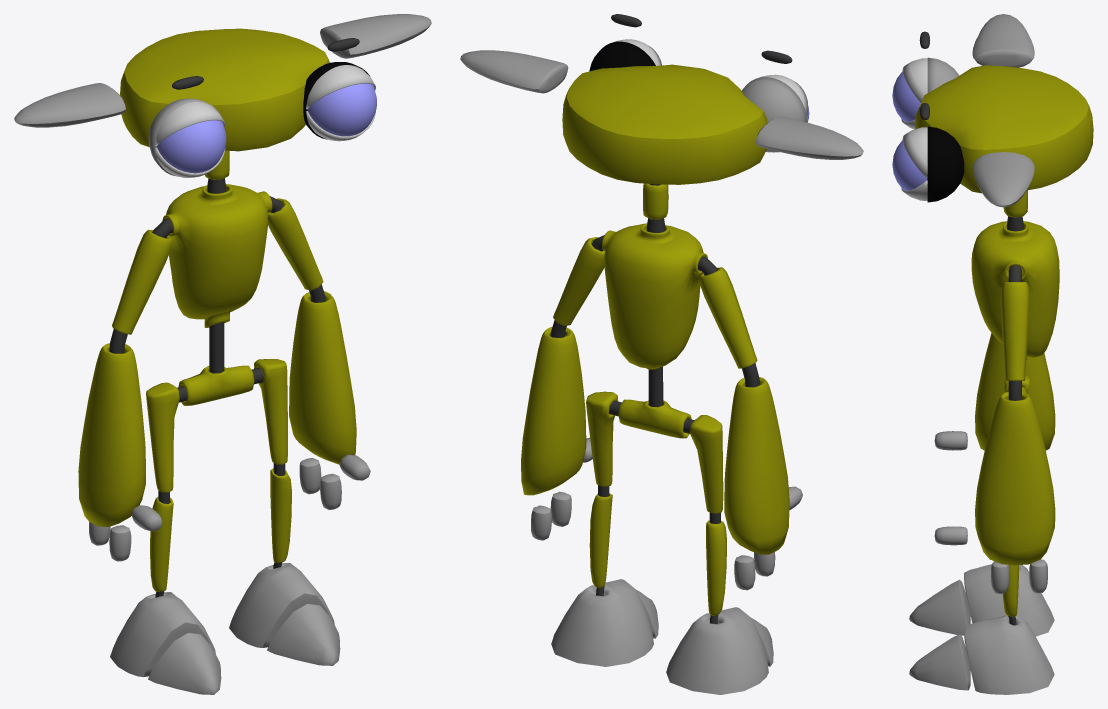
The model's file is idle.obj.
3 views of the same model, side by side, from view 1: azimuth 30°, elevation 25°; view 2: azimuth 150°, elevation 25°; view 3: azimuth 270°, elevation 25° (orthographic). The views are drawn at different scales.
Parts seen in each view (by area): view 1: Mesh polySurface50, Mesh polySurface41, Mesh polySurface37, Mesh polySurface18, Mesh polySurface48, Mesh polySurface10, Mesh polySurface26, Mesh polySurface24, Mesh polySurface8, Mesh polySurface38, Mesh polySurface47, Mesh polySurface22 (+14 smaller); view 2: Mesh polySurface41, Mesh polySurface50, Mesh polySurface48, Mesh polySurface37, Mesh polySurface18, Mesh polySurface26, Mesh polySurface10, Mesh polySurface38, Mesh polySurface47, Mesh polySurface44, Mesh polySurface28, Mesh polySurface12 (+7 smaller); view 3: Mesh polySurface18, Mesh polySurface50, Mesh polySurface41, Mesh polySurface10, Mesh polySurface37, Mesh polySurface48, Mesh polySurface26, Mesh polySurface44, Mesh polySurface51, Mesh polySurface4, Mesh polySurface8, Mesh polySurface24 (+13 smaller).
Boxes of the visible parts, <box> form: Mesh polySurface50: <box>124,28,327,105</box>; Mesh polySurface41: <box>162,184,272,327</box>; Mesh polySurface37: <box>78,343,145,526</box>; Mesh polySurface18: <box>289,291,356,464</box>; Mesh polySurface48: <box>120,55,329,151</box>; Mesh polySurface10: <box>229,563,334,647</box>; Mesh polySurface26: <box>110,592,215,676</box>; Mesh polySurface24: <box>148,633,221,694</box>; Mesh polySurface8: <box>267,604,340,665</box>; Mesh polySurface38: <box>112,229,172,334</box>; Mesh polySurface47: <box>14,83,125,123</box>; Mesh polySurface22: <box>157,120,226,173</box>; Mesh polySurface41: <box>602,223,707,369</box>; Mesh polySurface50: <box>566,64,763,138</box>; Mesh polySurface48: <box>562,89,767,184</box>; Mesh polySurface37: <box>724,377,789,554</box>; Mesh polySurface18: <box>521,327,586,495</box>; Mesh polySurface26: <box>666,607,768,694</box>; Mesh polySurface10: <box>551,579,653,666</box>; Mesh polySurface38: <box>699,267,757,368</box>; Mesh polySurface47: <box>755,117,863,156</box>; Mesh polySurface44: <box>460,50,566,89</box>; Mesh polySurface28: <box>690,415,723,513</box>; Mesh polySurface12: <box>586,391,618,486</box>; Mesh polySurface18: <box>975,392,1055,565</box>; Mesh polySurface50: <box>919,65,1088,149</box>; Mesh polySurface41: <box>971,221,1059,359</box>; Mesh polySurface10: <box>964,615,1054,694</box>; Mesh polySurface37: <box>975,333,1055,450</box>; Mesh polySurface48: <box>915,100,1093,193</box>; Mesh polySurface26: <box>964,564,1054,636</box>; Mesh polySurface44: <box>972,152,1034,205</box>; Mesh polySurface51: <box>1000,282,1029,380</box>; Mesh polySurface4: <box>927,126,964,202</box>; Mesh polySurface8: <box>909,634,968,690</box>; Mesh polySurface24: <box>909,580,966,635</box>.
Bounding box in the file's own units: 10.05 × 14.23 × 4.49.
